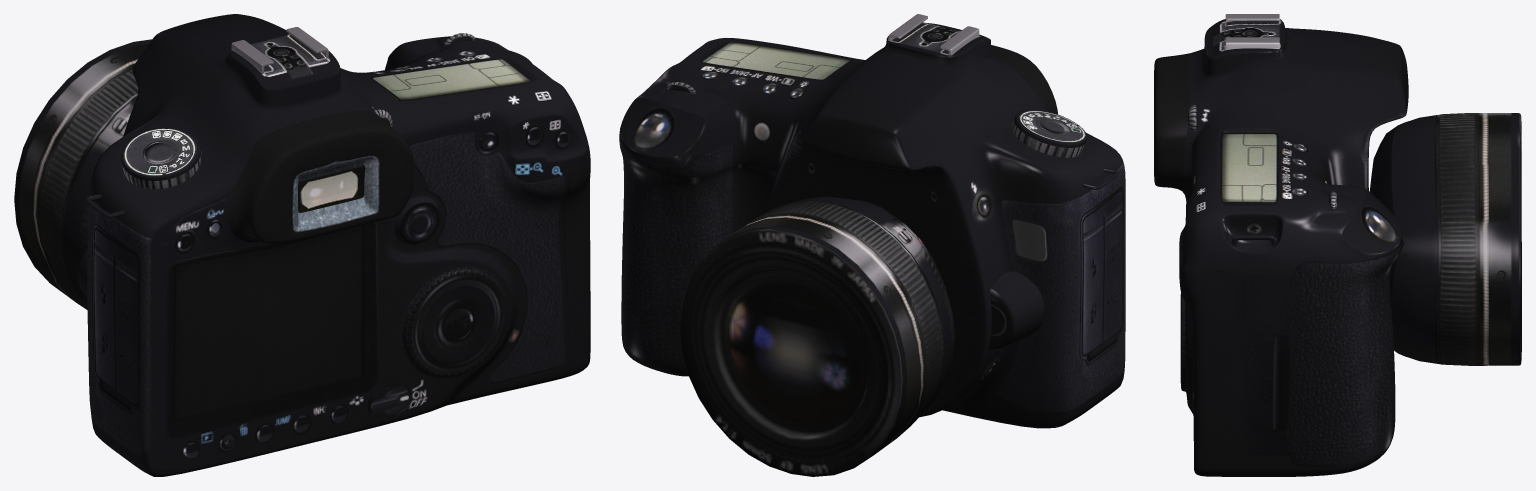
File: cam.fbx
3 views of the same model, side by side, from view 1: azimuth 30°, elevation 25°; view 2: azimuth 150°, elevation 25°; view 3: azimuth 270°, elevation 25° (orthographic). The views are drawn at different scales.
Visible parts, largest first — view 1: 10124_SLR_Camera_SG_V1_Iteration2; view 2: 10124_SLR_Camera_SG_V1_Iteration2; view 3: 10124_SLR_Camera_SG_V1_Iteration2.
Part boxes in pixels (box(x1,y1,x2,y2)): 10124_SLR_Camera_SG_V1_Iteration2: box(14, 14, 590, 476); 10124_SLR_Camera_SG_V1_Iteration2: box(619, 14, 1125, 476); 10124_SLR_Camera_SG_V1_Iteration2: box(1154, 14, 1521, 476).
Bounding box in the file's own units: 14866 × 11304 × 11311.
